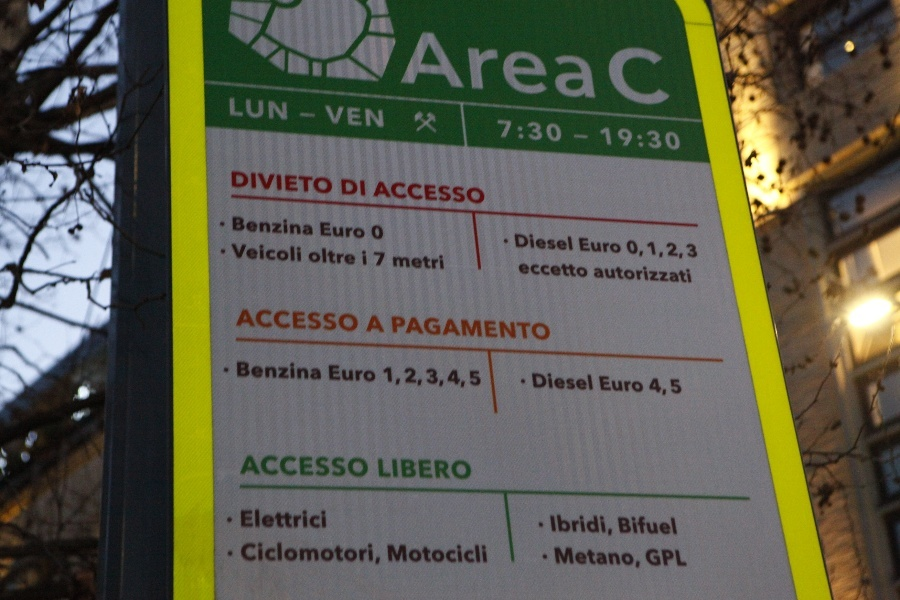text: (433, 32, 448, 110), (449, 32, 464, 110), (465, 32, 480, 110), (481, 32, 496, 110), (497, 32, 512, 110), (513, 32, 528, 110), (529, 32, 544, 110), (545, 32, 560, 110), (561, 32, 576, 110), (577, 32, 592, 110), (593, 32, 608, 110), (609, 32, 624, 110), (625, 32, 640, 110), (641, 32, 656, 110), (657, 32, 672, 110), (420, 32, 432, 110), (273, 96, 289, 122), (369, 104, 385, 130), (241, 96, 256, 122), (257, 96, 272, 122), (337, 104, 352, 130), (353, 104, 368, 130), (241, 171, 256, 196), (257, 171, 272, 196), (273, 171, 288, 196), (289, 171, 304, 196), (305, 171, 320, 196), (241, 214, 256, 239), (257, 214, 272, 239), (273, 214, 288, 239), (289, 214, 304, 239), (257, 308, 272, 333), (273, 308, 288, 333), (289, 308, 304, 333), (305, 308, 320, 333), (321, 308, 336, 333), (337, 308, 352, 333), (401, 317, 416, 342), (417, 317, 432, 342), (433, 317, 448, 342), (449, 317, 464, 342), (465, 317, 480, 342), (481, 317, 496, 342), (497, 317, 512, 342), (513, 317, 528, 342), (529, 317, 544, 342), (257, 455, 272, 480), (273, 455, 288, 480), (289, 455, 304, 480), (305, 455, 320, 480), (321, 455, 336, 480), (337, 455, 352, 480), (353, 455, 368, 480), (609, 126, 624, 151), (625, 126, 640, 151), (641, 126, 656, 151), (657, 126, 672, 151), (241, 358, 256, 382), (257, 358, 272, 382), (273, 358, 288, 382), (289, 358, 304, 382), (305, 358, 320, 382), (385, 182, 400, 205), (401, 182, 416, 205), (417, 182, 432, 205), (433, 182, 448, 205), (449, 182, 464, 205), (465, 182, 480, 205), (593, 262, 608, 285), (609, 262, 624, 285), (625, 262, 640, 285), (641, 262, 656, 285), (657, 262, 672, 285), (673, 262, 688, 285), (241, 543, 256, 566), (257, 543, 272, 566), (273, 543, 288, 566), (289, 543, 304, 566), (305, 543, 320, 566), (321, 543, 336, 566), (337, 543, 352, 566), (353, 543, 368, 566), (369, 543, 384, 566), (385, 543, 400, 566), (401, 543, 416, 566), (417, 543, 432, 566), (433, 543, 448, 566), (449, 543, 464, 566), (465, 543, 480, 566), (561, 514, 576, 537), (577, 514, 592, 537), (593, 514, 608, 537), (609, 514, 624, 537), (625, 514, 640, 537), (641, 514, 656, 537), (657, 514, 672, 537), (497, 119, 512, 142), (513, 119, 528, 142), (529, 119, 544, 142), (545, 119, 560, 142), (241, 242, 256, 264), (257, 242, 272, 264), (273, 242, 288, 264), (385, 368, 400, 390), (401, 368, 416, 390), (417, 368, 432, 390), (433, 368, 448, 390), (449, 368, 464, 390), (465, 368, 480, 390), (625, 240, 640, 262), (641, 240, 656, 262), (657, 240, 672, 262), (673, 240, 688, 262), (385, 459, 400, 481), (401, 459, 416, 481), (417, 459, 432, 481), (433, 459, 448, 481), (449, 459, 464, 481), (561, 547, 576, 568), (577, 547, 592, 568), (593, 547, 608, 568), (609, 547, 624, 568), (625, 547, 640, 568), (641, 547, 656, 568), (657, 547, 672, 568), (228, 96, 240, 122), (324, 104, 336, 130), (321, 247, 336, 267), (337, 247, 352, 267), (244, 308, 256, 333), (337, 365, 352, 385), (353, 365, 368, 385), (657, 377, 672, 397), (241, 510, 256, 530), (257, 510, 272, 530), (273, 510, 288, 530), (289, 510, 304, 530), (305, 510, 320, 530), (673, 547, 687, 568), (289, 242, 302, 264), (513, 234, 528, 253), (529, 234, 544, 253), (545, 234, 560, 253), (593, 237, 608, 256), (545, 372, 560, 391), (561, 372, 576, 391), (577, 372, 592, 391), (321, 171, 332, 196), (609, 375, 624, 393), (625, 375, 640, 393), (561, 234, 575, 253), (578, 237, 592, 256), (321, 222, 336, 239), (337, 222, 352, 239), (529, 263, 544, 280), (545, 263, 560, 280), (561, 263, 576, 280), (549, 514, 560, 537), (673, 126, 683, 151), (689, 240, 700, 262), (577, 263, 591, 280), (353, 179, 366, 197), (609, 237, 621, 256), (532, 372, 544, 391), (305, 214, 314, 239), (401, 255, 416, 270), (417, 255, 432, 270), (370, 225, 384, 241), (230, 242, 240, 264), (309, 247, 320, 267), (673, 377, 684, 397), (372, 315, 384, 333), (353, 222, 365, 239), (232, 171, 240, 196), (353, 308, 361, 333), (392, 317, 400, 342), (248, 455, 256, 480), (600, 126, 608, 151), (341, 179, 352, 197), (433, 255, 446, 270), (369, 365, 378, 385), (598, 375, 608, 393), (518, 263, 528, 280), (373, 251, 384, 266), (481, 182, 488, 205), (481, 543, 488, 566), (377, 459, 384, 481), (465, 459, 472, 481), (234, 214, 240, 239), (329, 365, 336, 385), (321, 510, 328, 530), (673, 514, 679, 537), (554, 547, 560, 568), (545, 317, 550, 342), (379, 182, 384, 205), (361, 250, 368, 266), (393, 255, 400, 270), (369, 455, 373, 480), (689, 262, 693, 285), (561, 119, 565, 142), (481, 368, 485, 390), (652, 377, 656, 397), (673, 32, 674, 110), (237, 358, 240, 382), (641, 375, 645, 393), (577, 134, 589, 140), (305, 112, 316, 118), (353, 247, 356, 267), (382, 368, 384, 390), (321, 358, 322, 382), (300, 112, 304, 118), (239, 543, 240, 566), (593, 372, 594, 391), (385, 315, 386, 333), (385, 251, 386, 266), (574, 134, 576, 140)
